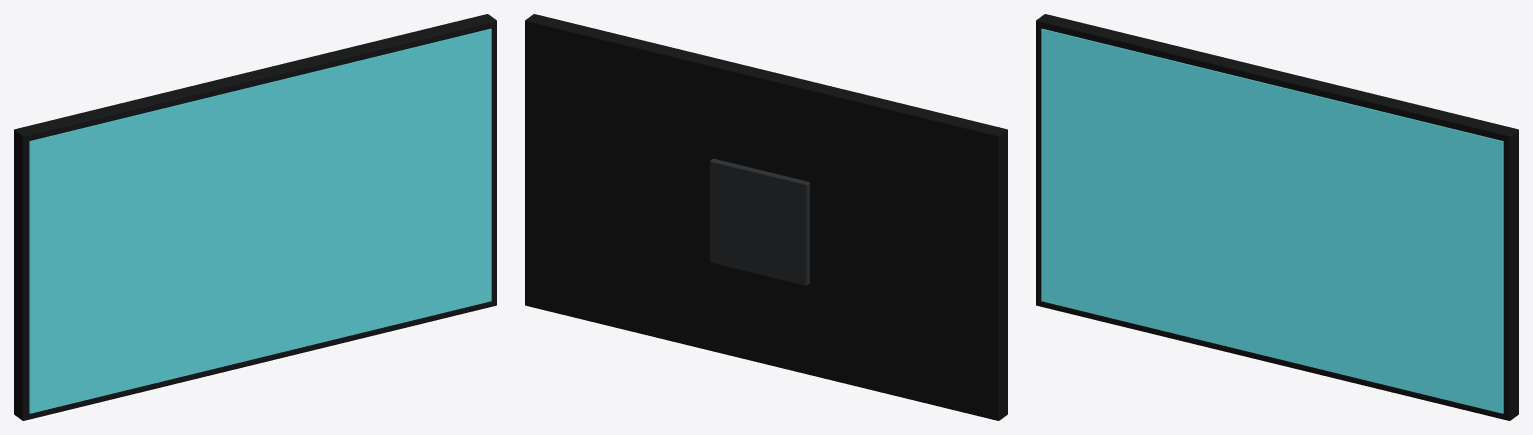
The model's file is PROP_Display_Wall_65.glb.
The picture shows the model from 3 angles, left to right: view 1: azimuth 30°, elevation 25°; view 2: azimuth 150°, elevation 25°; view 3: azimuth 330°, elevation 25°; orthographic projection.
Visible parts, largest first — view 1: PROP_Display_Wall_65_Screens, PROP_Display_Wall_65_Mesh; view 2: PROP_Display_Wall_65_Mesh; view 3: PROP_Display_Wall_65_Screens, PROP_Display_Wall_65_Mesh.
Boxes of the visible parts, box(x1,y1,x2,y2) form: PROP_Display_Wall_65_Screens: box(29, 28, 491, 413); PROP_Display_Wall_65_Mesh: box(14, 14, 496, 420); PROP_Display_Wall_65_Mesh: box(525, 14, 1007, 420); PROP_Display_Wall_65_Screens: box(1041, 28, 1503, 413); PROP_Display_Wall_65_Mesh: box(1036, 14, 1518, 420).
Bounding box in the file's own units: 1.46 × 0.84 × 0.074.
